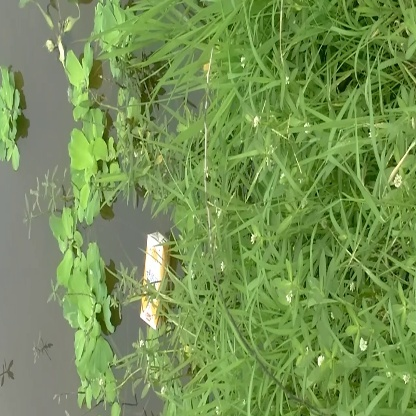milk-box: (135, 229, 179, 327)
